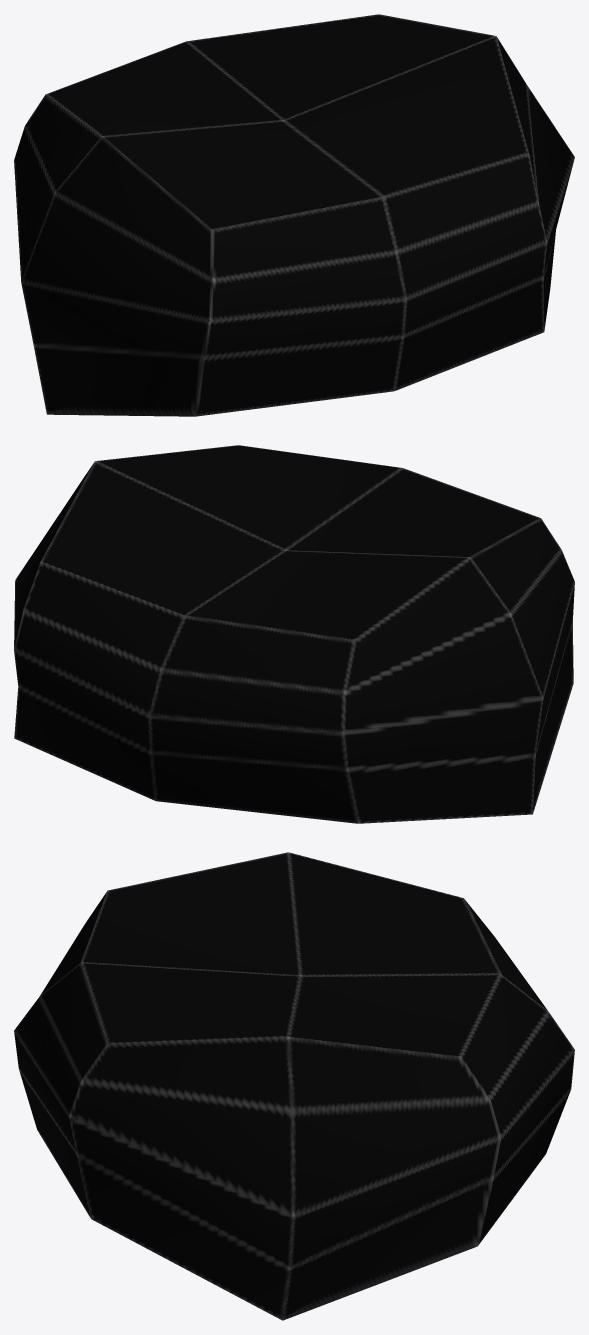
File: RoundRock.obj
The picture shows the model from 3 angles, top to bottom: view 1: azimuth 30°, elevation 25°; view 2: azimuth 150°, elevation 25°; view 3: azimuth 270°, elevation 25°; orthographic projection. The views are drawn at different scales.
Parts seen in each view (by area): view 1: rockround; view 2: rockround; view 3: rockround.
Part boxes in pixels (<box>): rockround: <box>14,14,574,416</box>; rockround: <box>14,445,574,823</box>; rockround: <box>14,852,574,1320</box>.
Size of the model in its own units: 3.21 by 1.52 by 2.86.
